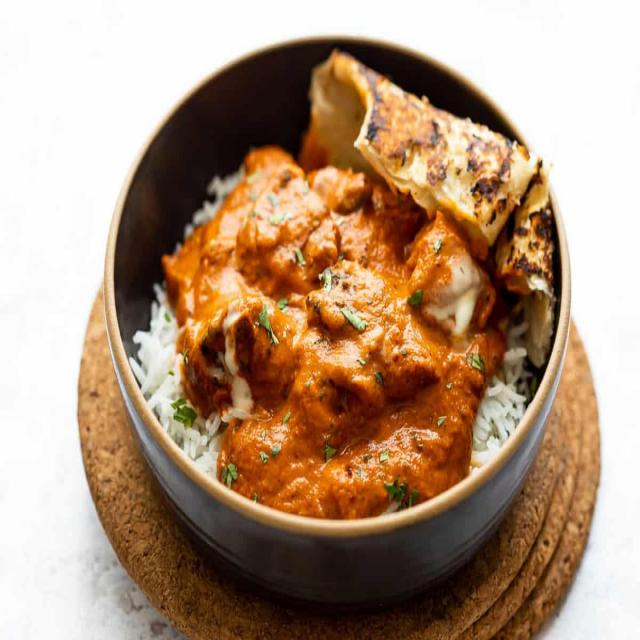chicken: (191, 163, 450, 516)
roti: (321, 46, 553, 230)
